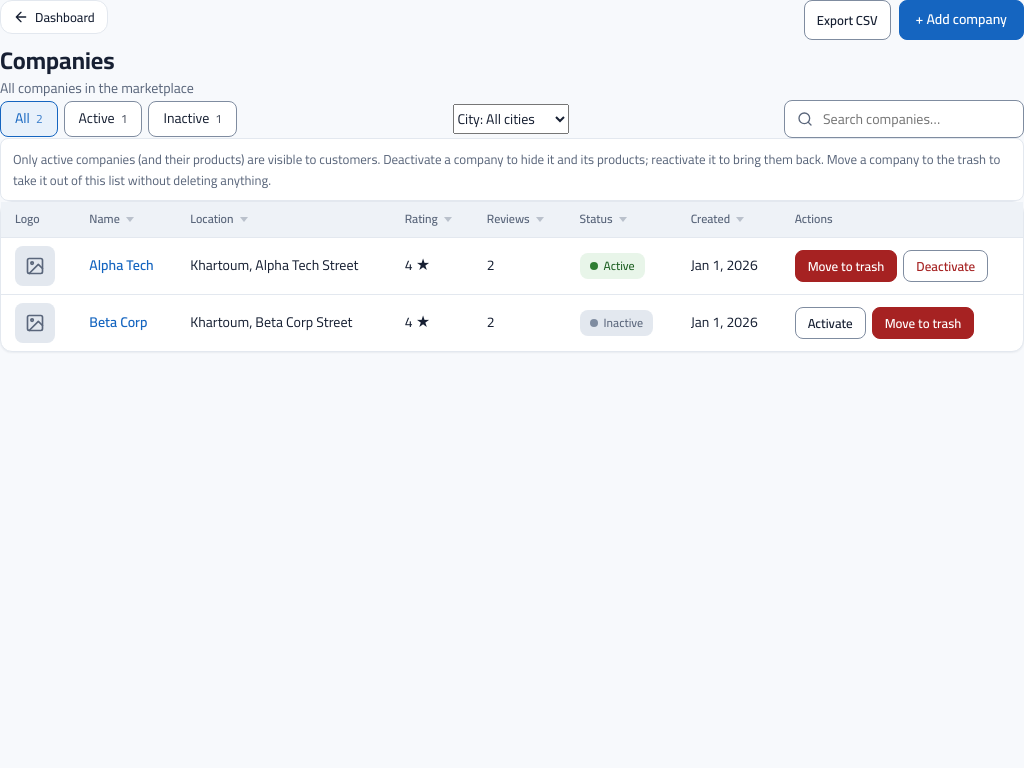
Test: Move to trash › a refused move keeps the row and reports the problem
What coordinates should you click on to do the following:
click the button "Move to trash" in the row of "Khartoum, Beta Corp Street"
I would click on:
 (923, 323)
Its box is left=872, top=307, right=974, bottom=339.
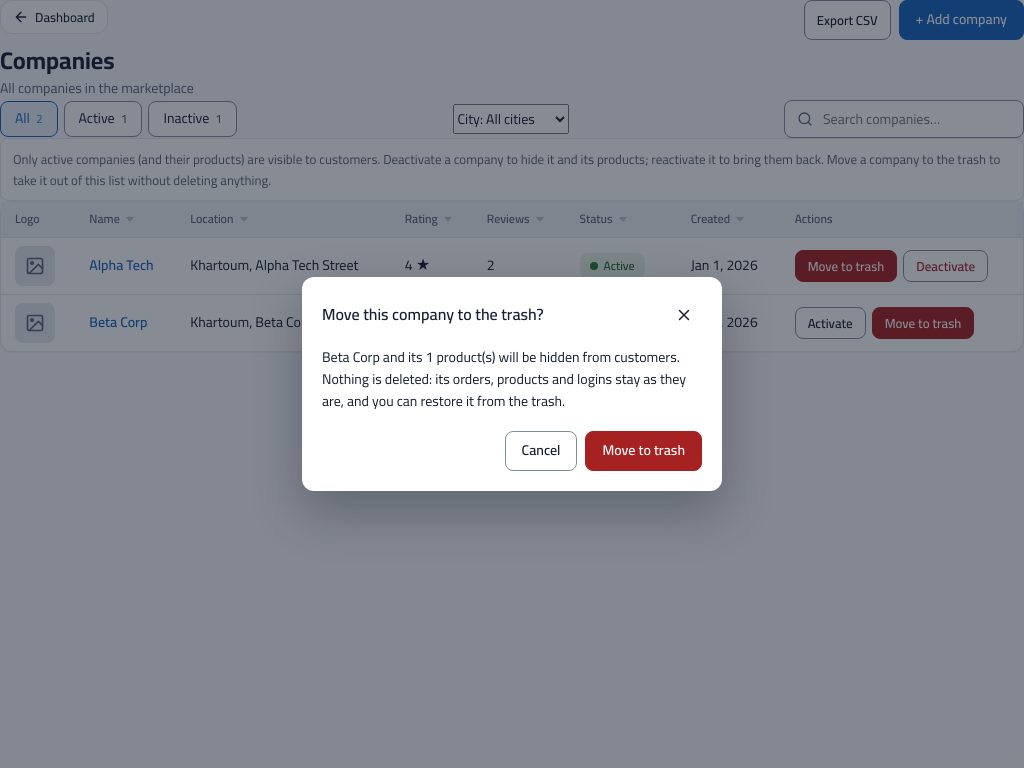
What coordinates should you click on to do the following:
click the button "Move to trash"
I would click on:
 (644, 451)
Its box is left=585, top=431, right=702, bottom=471.
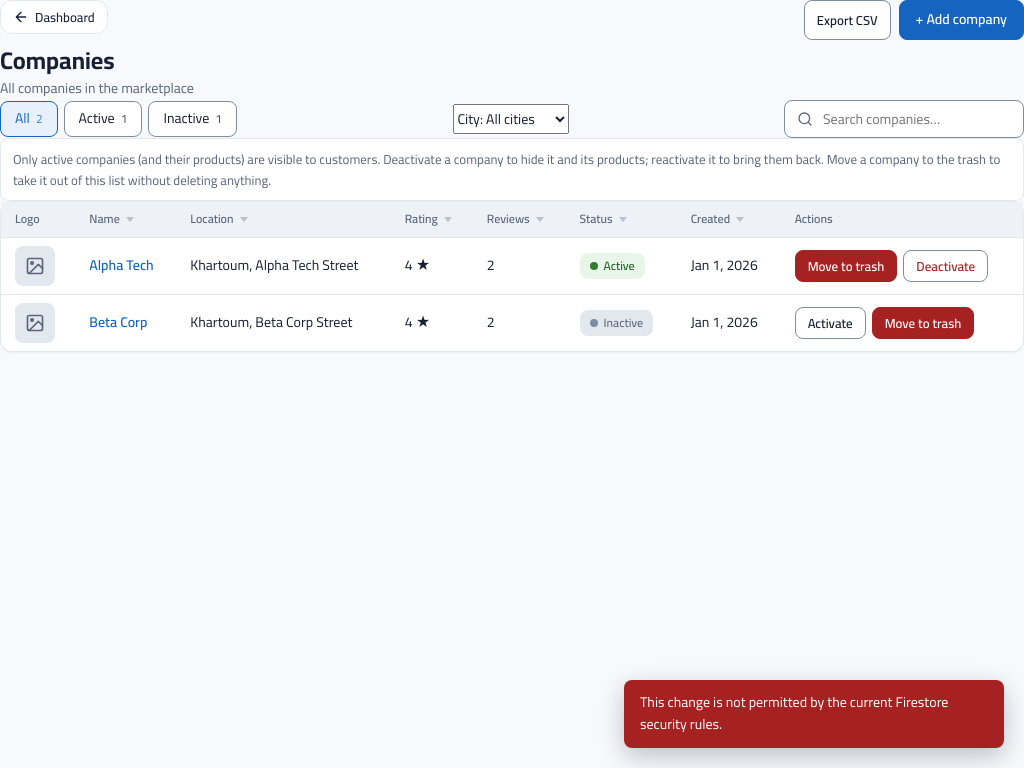
Expected: the text "Beta Corp" is shown, left=89, top=309, right=148, bottom=335
Now the message reads "This change is not permitted by the current Firestore security rules.", box left=640, top=689, right=948, bottom=737
